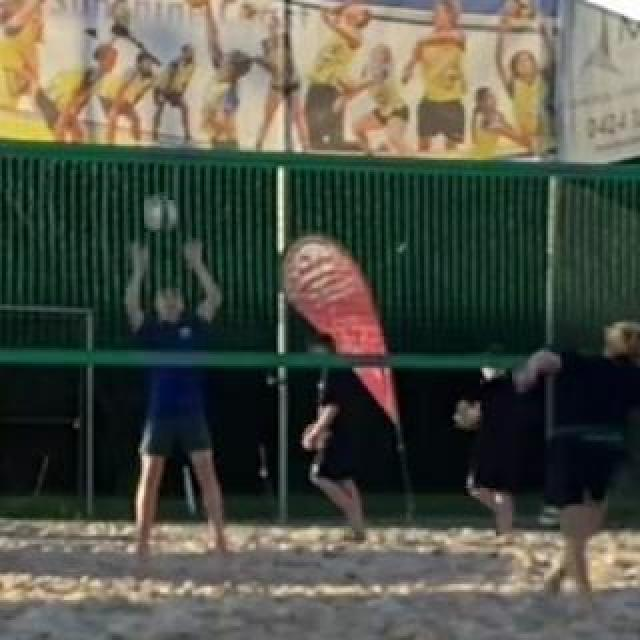volleyball: (143, 193, 179, 231)
